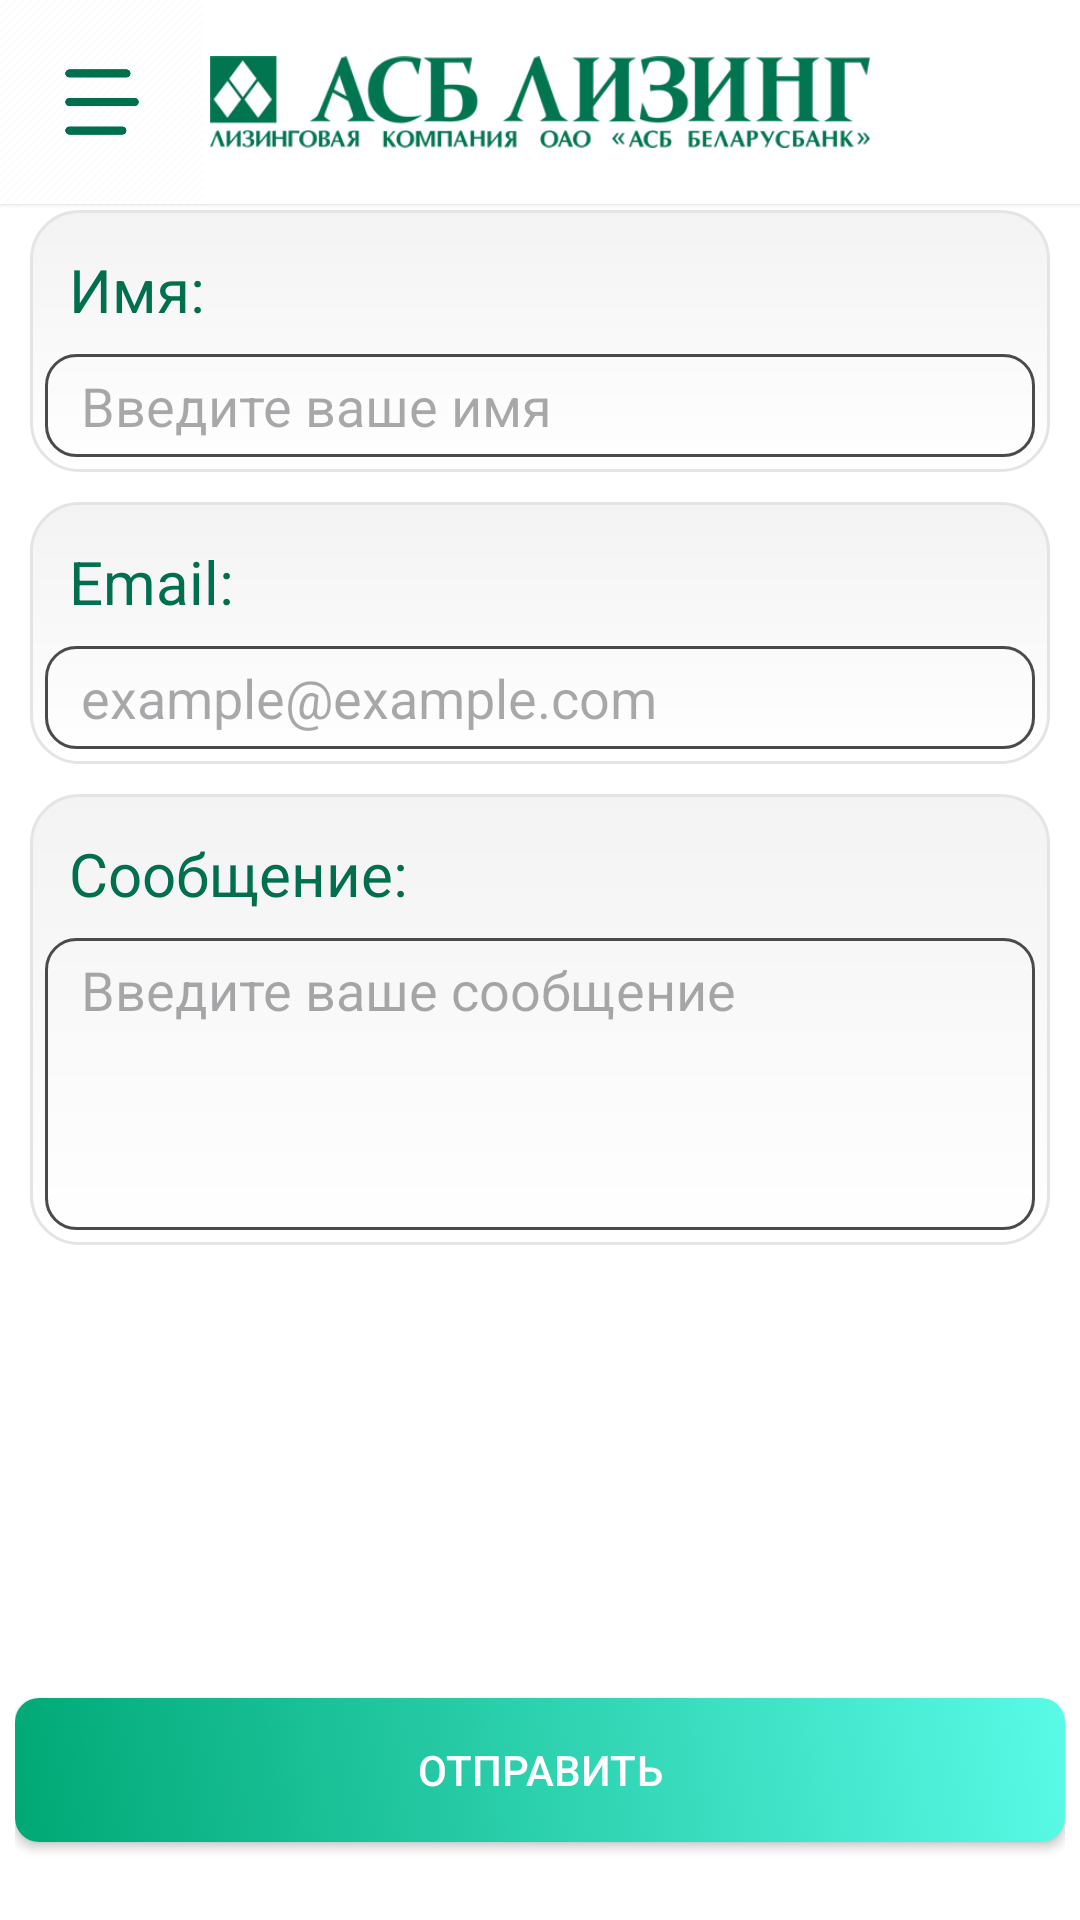

Where icons sit on this 1080px×1920px app screen, as rect(x1, y1, x2, y2):
burger: rect(65, 69, 139, 135)
